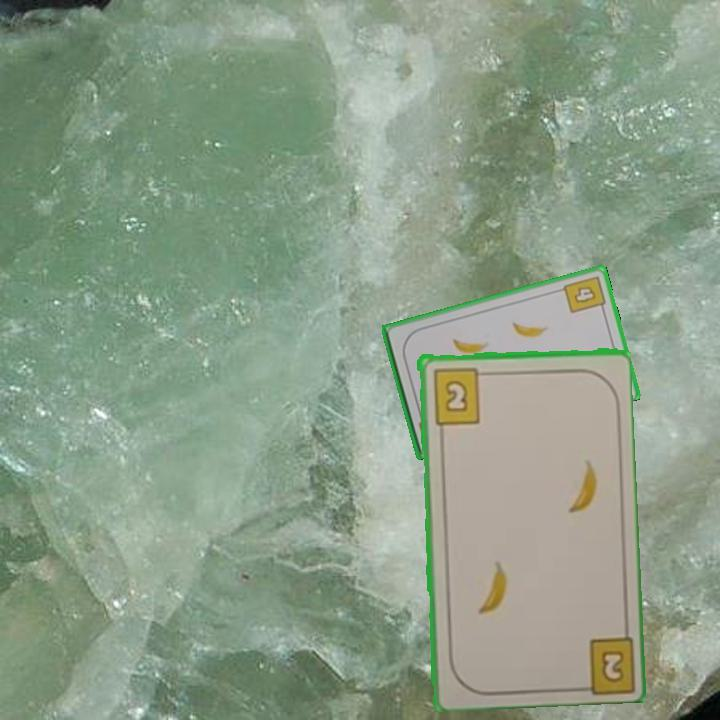2b: (429, 363, 490, 426), (597, 646, 627, 686)
4b: (560, 272, 608, 316)
